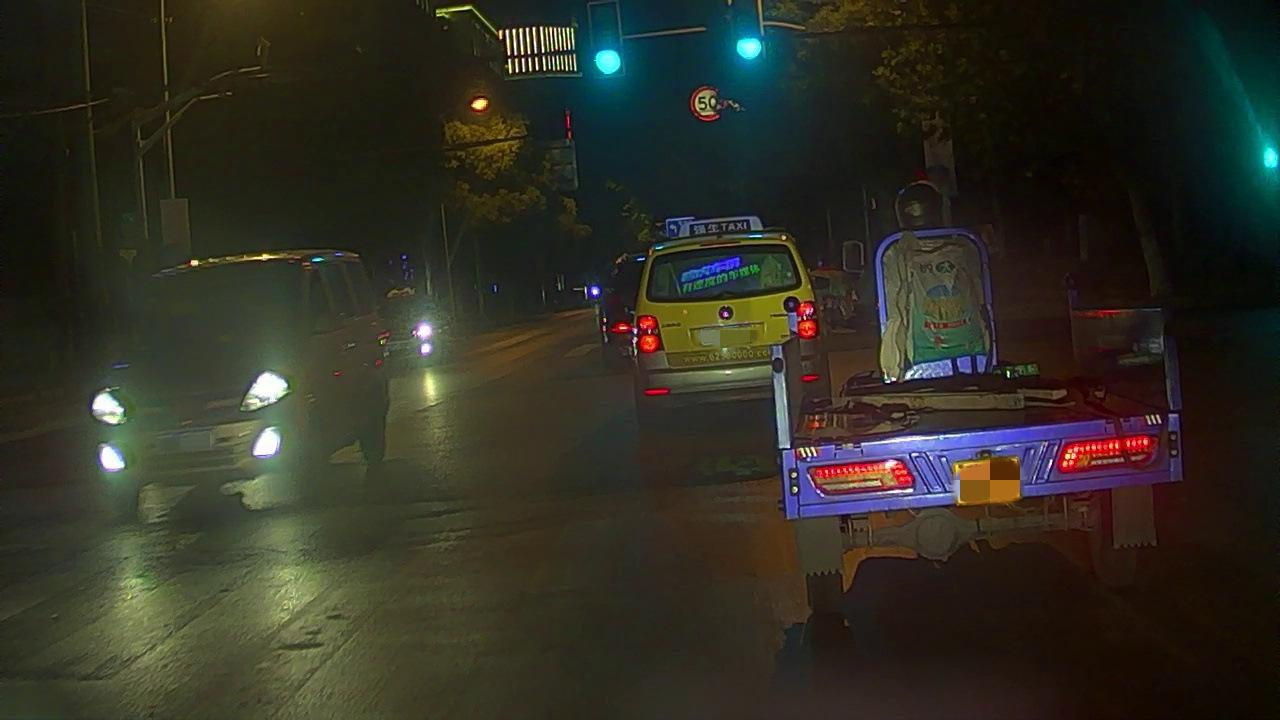traffic_light: (589, 4, 624, 75), (732, 1, 764, 61), (1259, 142, 1280, 175)
